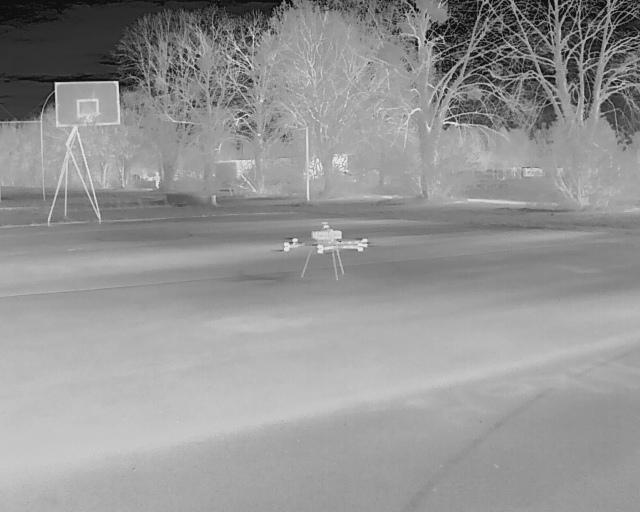drone: (276, 221, 376, 283)
